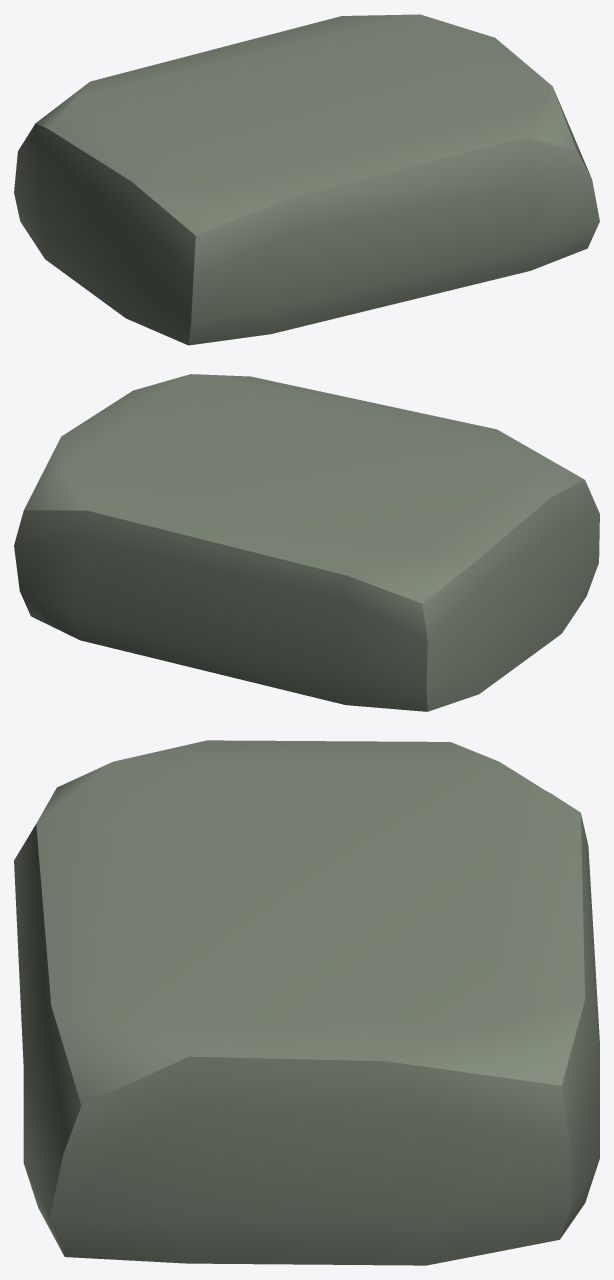
File: rock1.fbx
3 renders of one model, top to bottom at view 1: azimuth 30°, elevation 25°; view 2: azimuth 150°, elevation 25°; view 3: azimuth 270°, elevation 25°, orthographic. The views are drawn at different scales.
Visible parts, largest first — view 1: pCube1; view 2: pCube1; view 3: pCube1.
Boxes of the visible parts, bbox=[...] form: pCube1: bbox=[14, 14, 599, 345]; pCube1: bbox=[14, 374, 599, 711]; pCube1: bbox=[14, 740, 599, 1265].
Bounding box in the file's own units: 2.01 × 0.6076 × 1.51.
